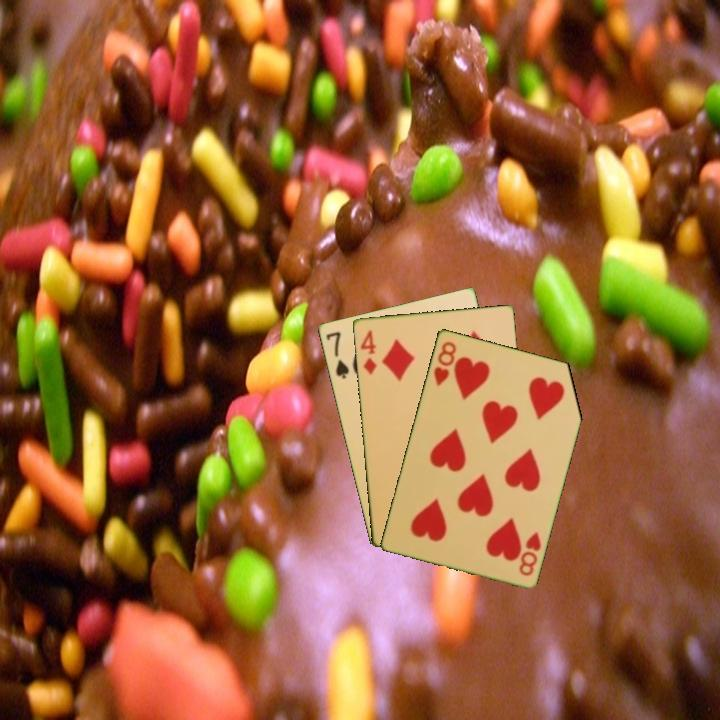4d: (357, 326, 379, 377)
7s: (322, 328, 352, 381)
8h: (430, 337, 459, 389), (515, 528, 544, 579)
